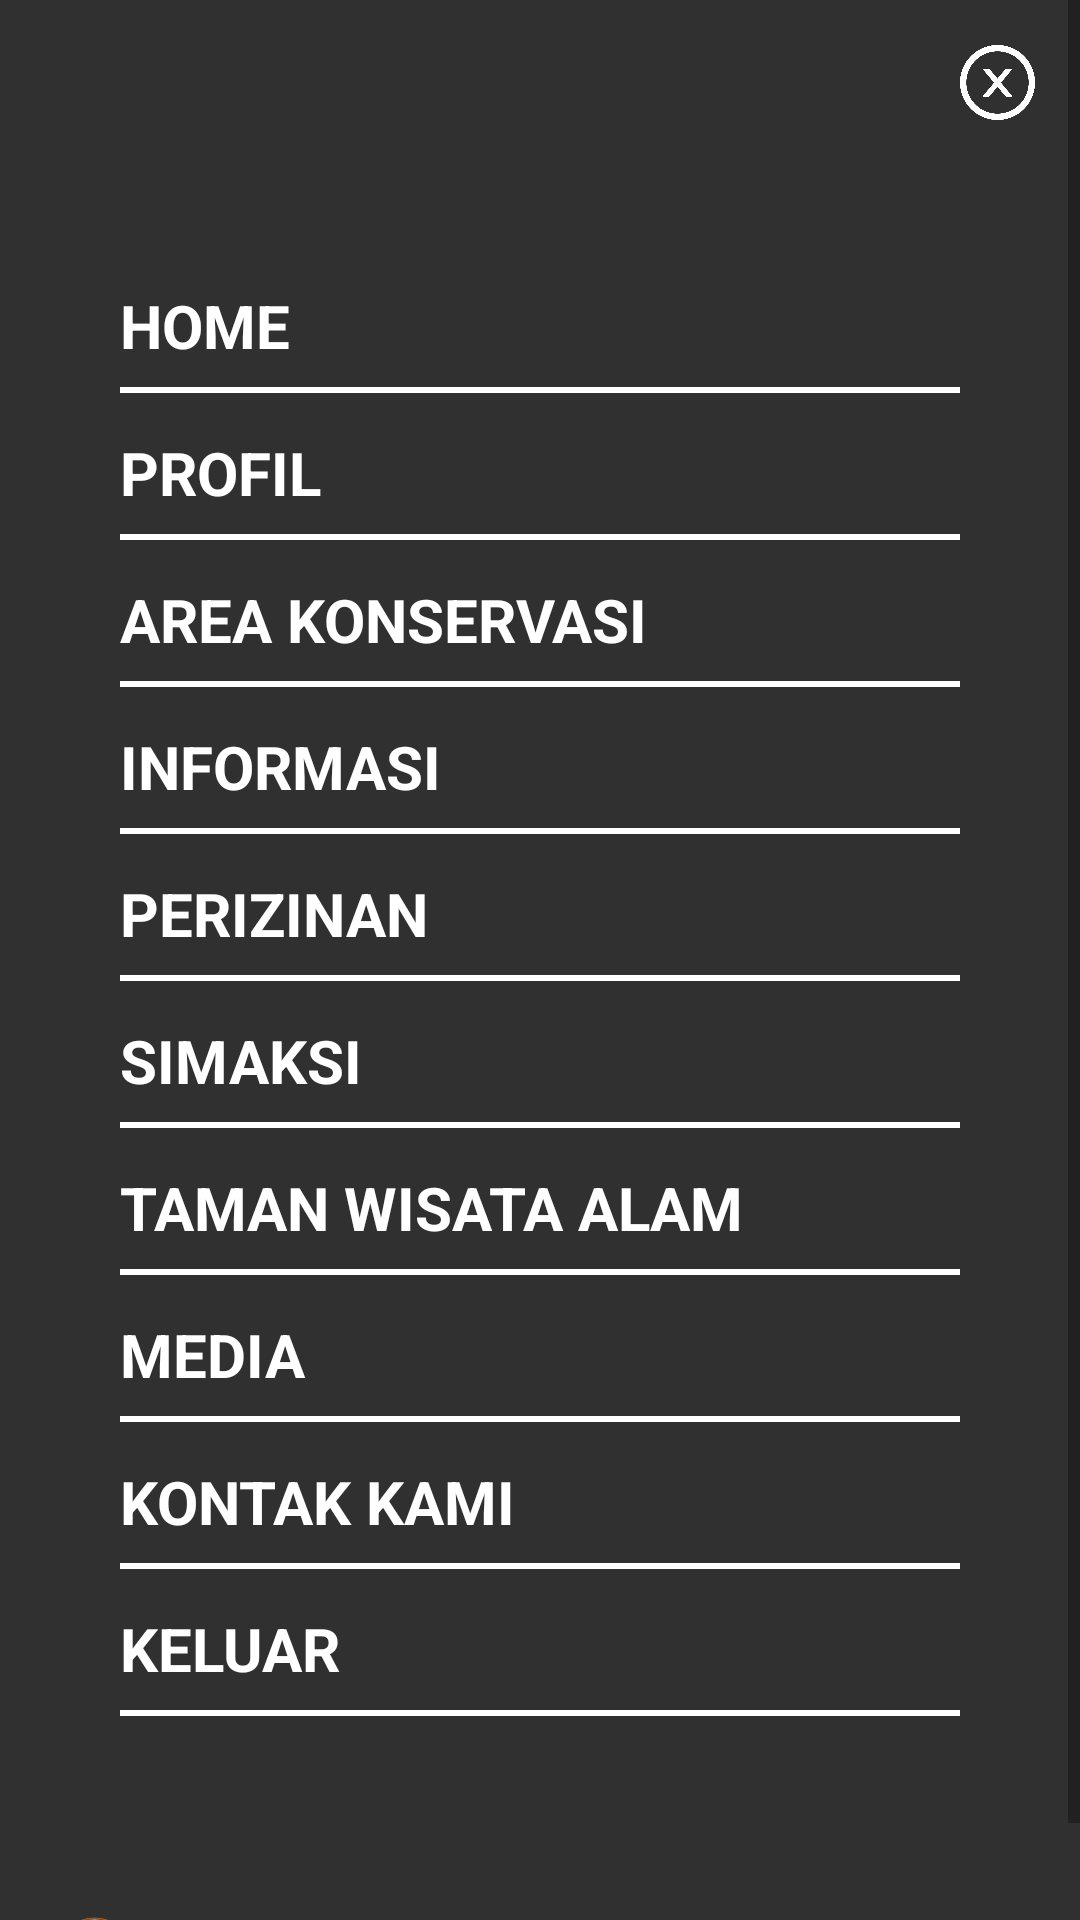

Where to tap for icons on this 1080 × 1920 app screen, as point (x, y):
close: point (997, 82)
